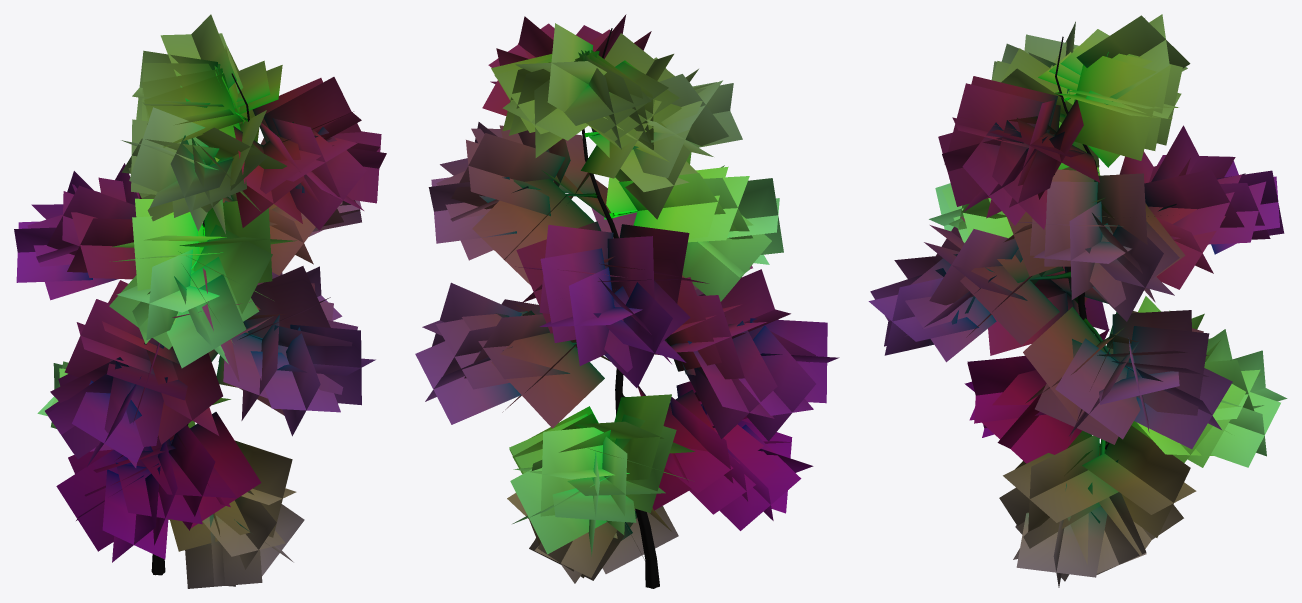
File: URP_P14_Tree_4_LOD_1.fbx
The picture shows the model from 3 angles, left to right: view 1: azimuth 30°, elevation 25°; view 2: azimuth 150°, elevation 25°; view 3: azimuth 270°, elevation 25°; orthographic projection. The views are drawn at different scales.
Visible parts, largest first — view 1: Tree_4_LOD_1; view 2: Tree_4_LOD_1; view 3: Tree_4_LOD_1.
Part boxes in pixels (bbox=[...]): Tree_4_LOD_1: bbox=[14, 14, 386, 588]; Tree_4_LOD_1: bbox=[415, 14, 839, 588]; Tree_4_LOD_1: bbox=[868, 14, 1287, 587].
Bounding box in the file's own units: 437 × 679 × 451.
